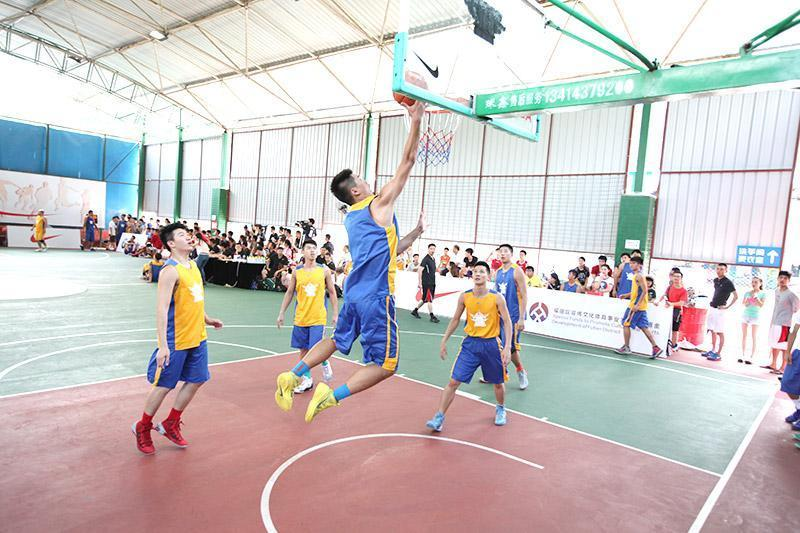ball: (391, 70, 428, 106)
human: (273, 98, 429, 425), (424, 258, 508, 432), (274, 238, 338, 392), (491, 242, 530, 392), (612, 255, 664, 360)
rim: (400, 95, 466, 169)
